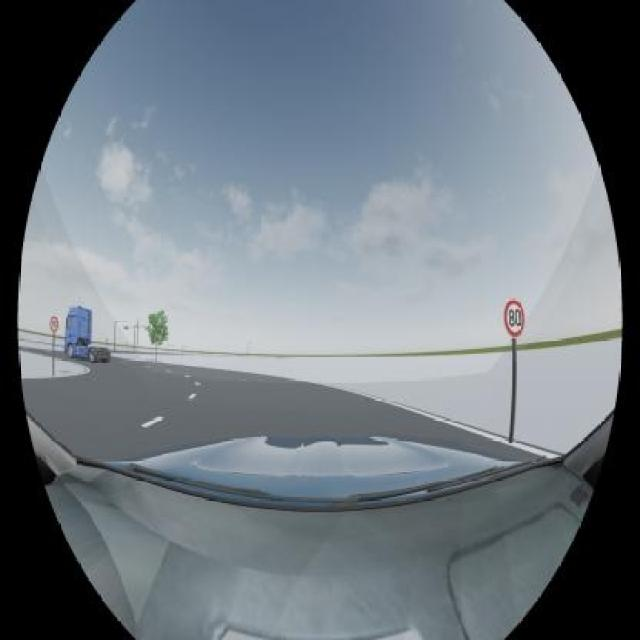forb_speed_over_80: (505, 299, 526, 339)
